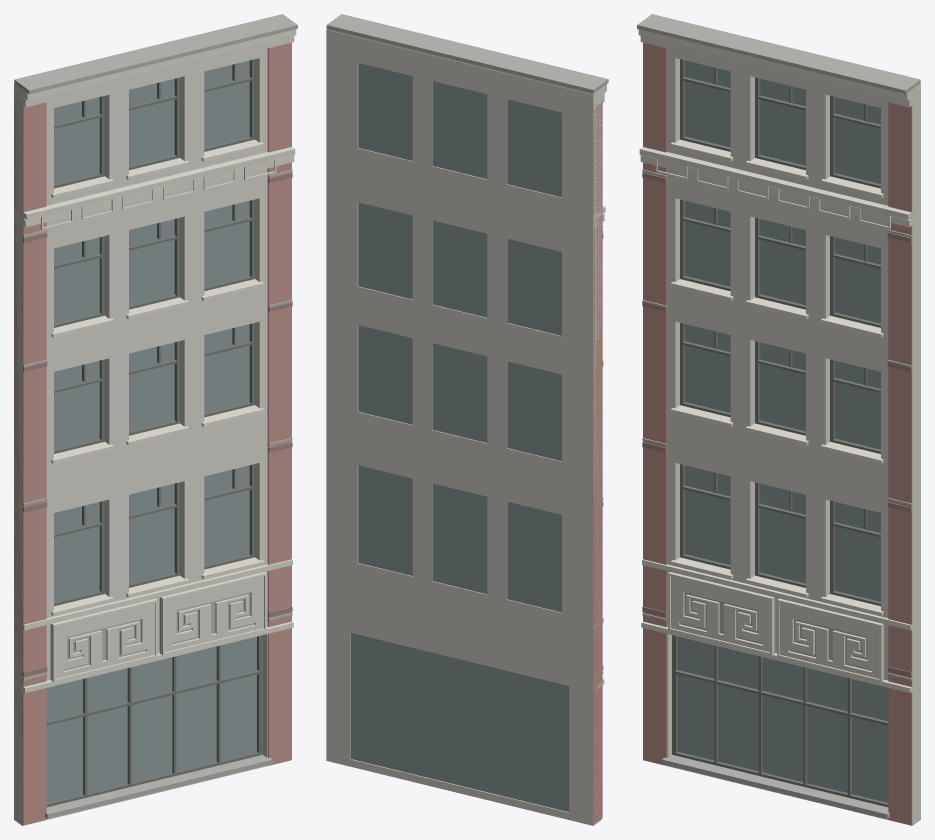
File: huangpu-chekiang-industrial-bank-beijing-front-lod.glb
3 views of the same model, side by side, from view 1: azimuth 30°, elevation 25°; view 2: azimuth 150°, elevation 25°; view 3: azimuth 330°, elevation 25° (orthographic).
Visible parts, largest first — view 1: 浙江兴业银行（浙兴大楼）北京东路西端窗跨; view 2: 浙江兴业银行（浙兴大楼）北京东路西端窗跨; view 3: 浙江兴业银行（浙兴大楼）北京东路西端窗跨.
Boxes of the visible parts, <box> form: 浙江兴业银行（浙兴大楼）北京东路西端窗跨: <box>14,14,297,825</box>; 浙江兴业银行（浙兴大楼）北京东路西端窗跨: <box>326,14,608,825</box>; 浙江兴业银行（浙兴大楼）北京东路西端窗跨: <box>637,14,920,825</box>.
Size of the model in its own units: 6.15 by 16.2 by 0.607.
